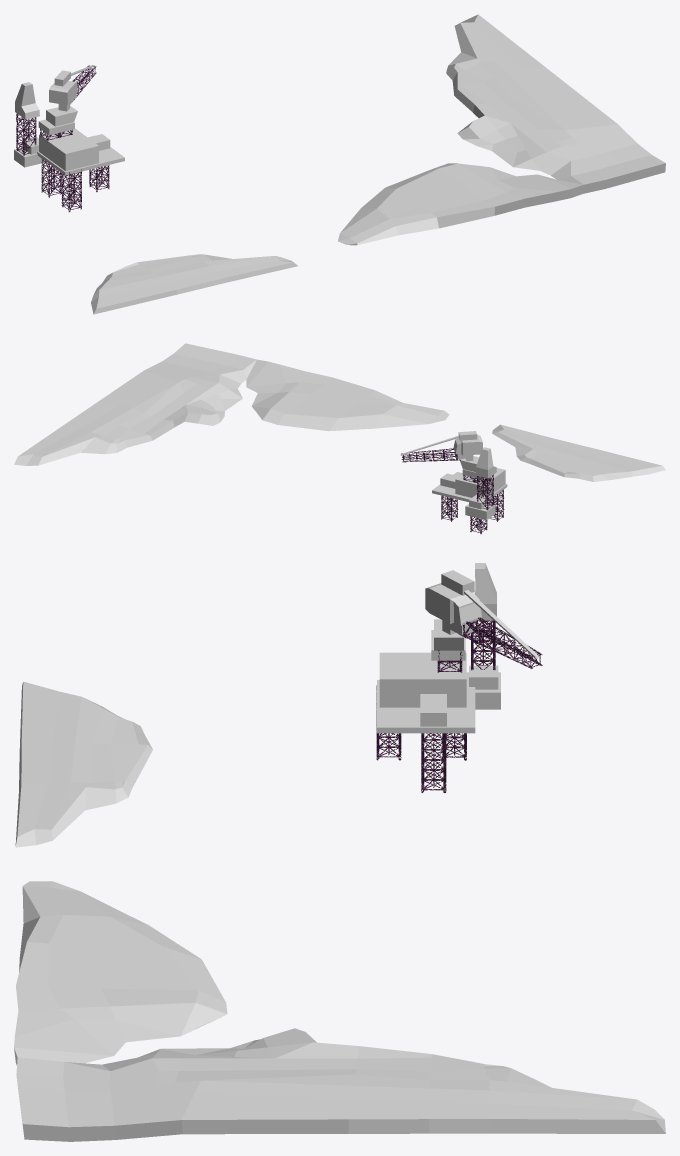
Rendered from surface_bayouTest.fbx.
3 views of the same model, one above another, from view 1: azimuth 30°, elevation 25°; view 2: azimuth 150°, elevation 25°; view 3: azimuth 270°, elevation 25° (orthographic). The views are drawn at different scales.
Visible parts, largest first — view 1: Cube.024, Cube.025, Cube.016, Cube.022, Cube.023, oilrigpier_Outer.001, oilrigpier_Outer.004, Cube.026, oilrigpier_Outer, Cube.021; view 2: Cube.024, Cube.025, Cube.016, oilrigpier_Outer.007, Cube.022, Cube.026, oilrigpier_Outer.004, Cube.023, oilrigpier_Outer.002, Cube.018; view 3: Cube.024, Cube.025, Cube.016, Cube.023, Cube.026, oilrigpier_Outer.007, oilrigpier_Outer.002, Cube.020, Cube.022.
Boxes of the visible parts, x1,y1,x2,y2 form: Cube.024: (338, 14, 665, 245); Cube.025: (91, 254, 298, 314); Cube.016: (39, 128, 98, 171); Cube.022: (15, 82, 39, 119); Cube.023: (37, 135, 124, 175); oilrigpier_Outer.001: (61, 169, 81, 212); oilrigpier_Outer.004: (16, 113, 36, 155); Cube.026: (49, 80, 77, 105); oilrigpier_Outer: (41, 159, 61, 197); Cube.021: (46, 105, 77, 126); Cube.024: (14, 343, 449, 465); Cube.025: (492, 424, 665, 481); Cube.016: (455, 468, 505, 497); oilrigpier_Outer.007: (401, 448, 460, 462); Cube.022: (476, 447, 496, 478); Cube.026: (453, 435, 482, 455); oilrigpier_Outer.004: (476, 474, 493, 510); Cube.023: (432, 472, 507, 501); oilrigpier_Outer.002: (441, 495, 458, 521); Cube.018: (465, 504, 495, 520); Cube.024: (14, 881, 665, 1141); Cube.025: (15, 681, 152, 847); Cube.016: (379, 652, 466, 707); Cube.023: (377, 680, 475, 733); Cube.026: (425, 583, 481, 625); oilrigpier_Outer.007: (458, 617, 542, 668); oilrigpier_Outer.002: (421, 733, 446, 792); Cube.020: (420, 694, 446, 726); Cube.022: (475, 563, 496, 620).
Bounding box in the file's own units: 342 × 65.6 × 203.
